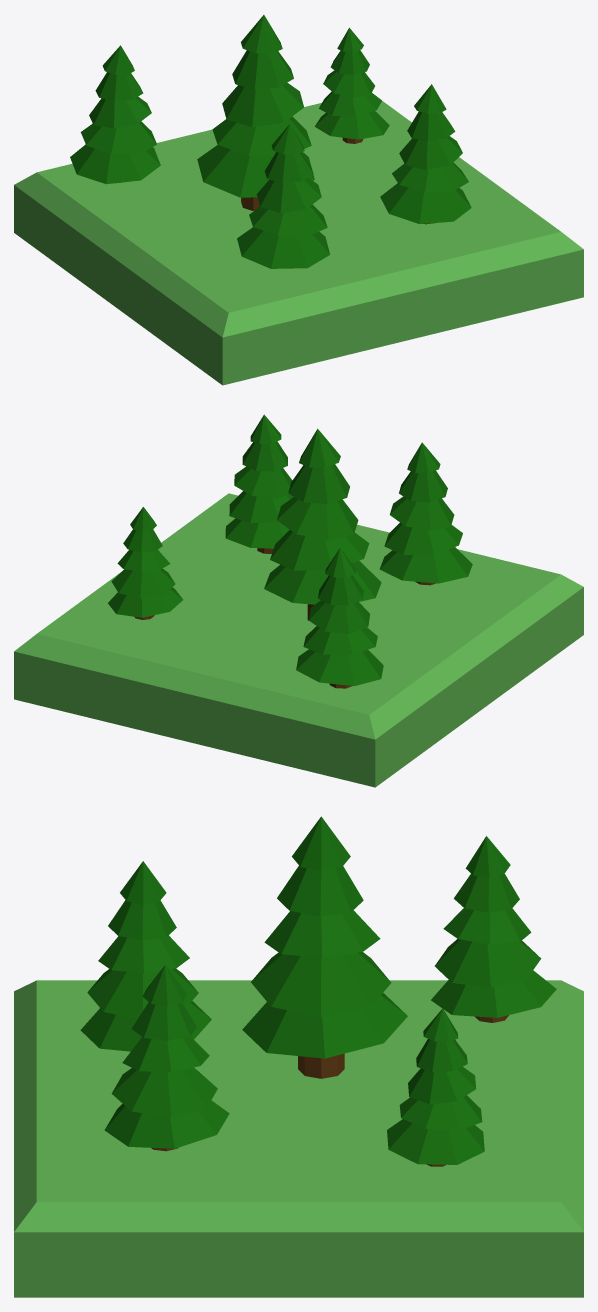
Rendered from TreesTile.fbx.
3 renders of one model, top to bottom at view 1: azimuth 30°, elevation 25°; view 2: azimuth 150°, elevation 25°; view 3: azimuth 270°, elevation 25°, orthographic. The views are drawn at different scales.
Parts seen in each view (by area): view 1: Tile, Leaves1, Leaves4, Leaves2, Leaves5, Leaves3; view 2: Tile, Leaves1, Leaves4, Leaves5, Leaves2, Leaves3; view 3: Tile, Leaves1, Leaves2, Leaves5, Leaves4, Leaves3, Stump1.
Part boxes in pixels (left/top/right/bottom): Tile: left=14, top=101, right=583, bottom=385; Leaves1: left=197, top=15, right=314, bottom=197; Leaves4: left=237, top=124, right=330, bottom=268; Leaves2: left=380, top=84, right=471, bottom=224; Leaves5: left=70, top=45, right=160, bottom=184; Leaves3: left=314, top=27, right=389, bottom=139; Tile: left=14, top=493, right=583, bottom=787; Leaves1: left=264, top=428, right=381, bottom=604; Leaves4: left=379, top=442, right=472, bottom=583; Leaves5: left=296, top=548, right=383, bottom=685; Leaves2: left=225, top=414, right=293, bottom=548; Leaves3: left=108, top=507, right=183, bottom=617; Tile: left=14, top=980, right=583, bottom=1297; Leaves1: left=242, top=816, right=407, bottom=1058; Leaves2: left=104, top=965, right=229, bottom=1148; Leaves5: left=431, top=836, right=556, bottom=1017; Leaves4: left=80, top=861, right=211, bottom=1051; Leaves3: left=387, top=1008, right=484, bottom=1164; Stump1: left=298, top=1053, right=344, bottom=1078.
Bounding box in the file's own units: 600 × 399 × 600.
